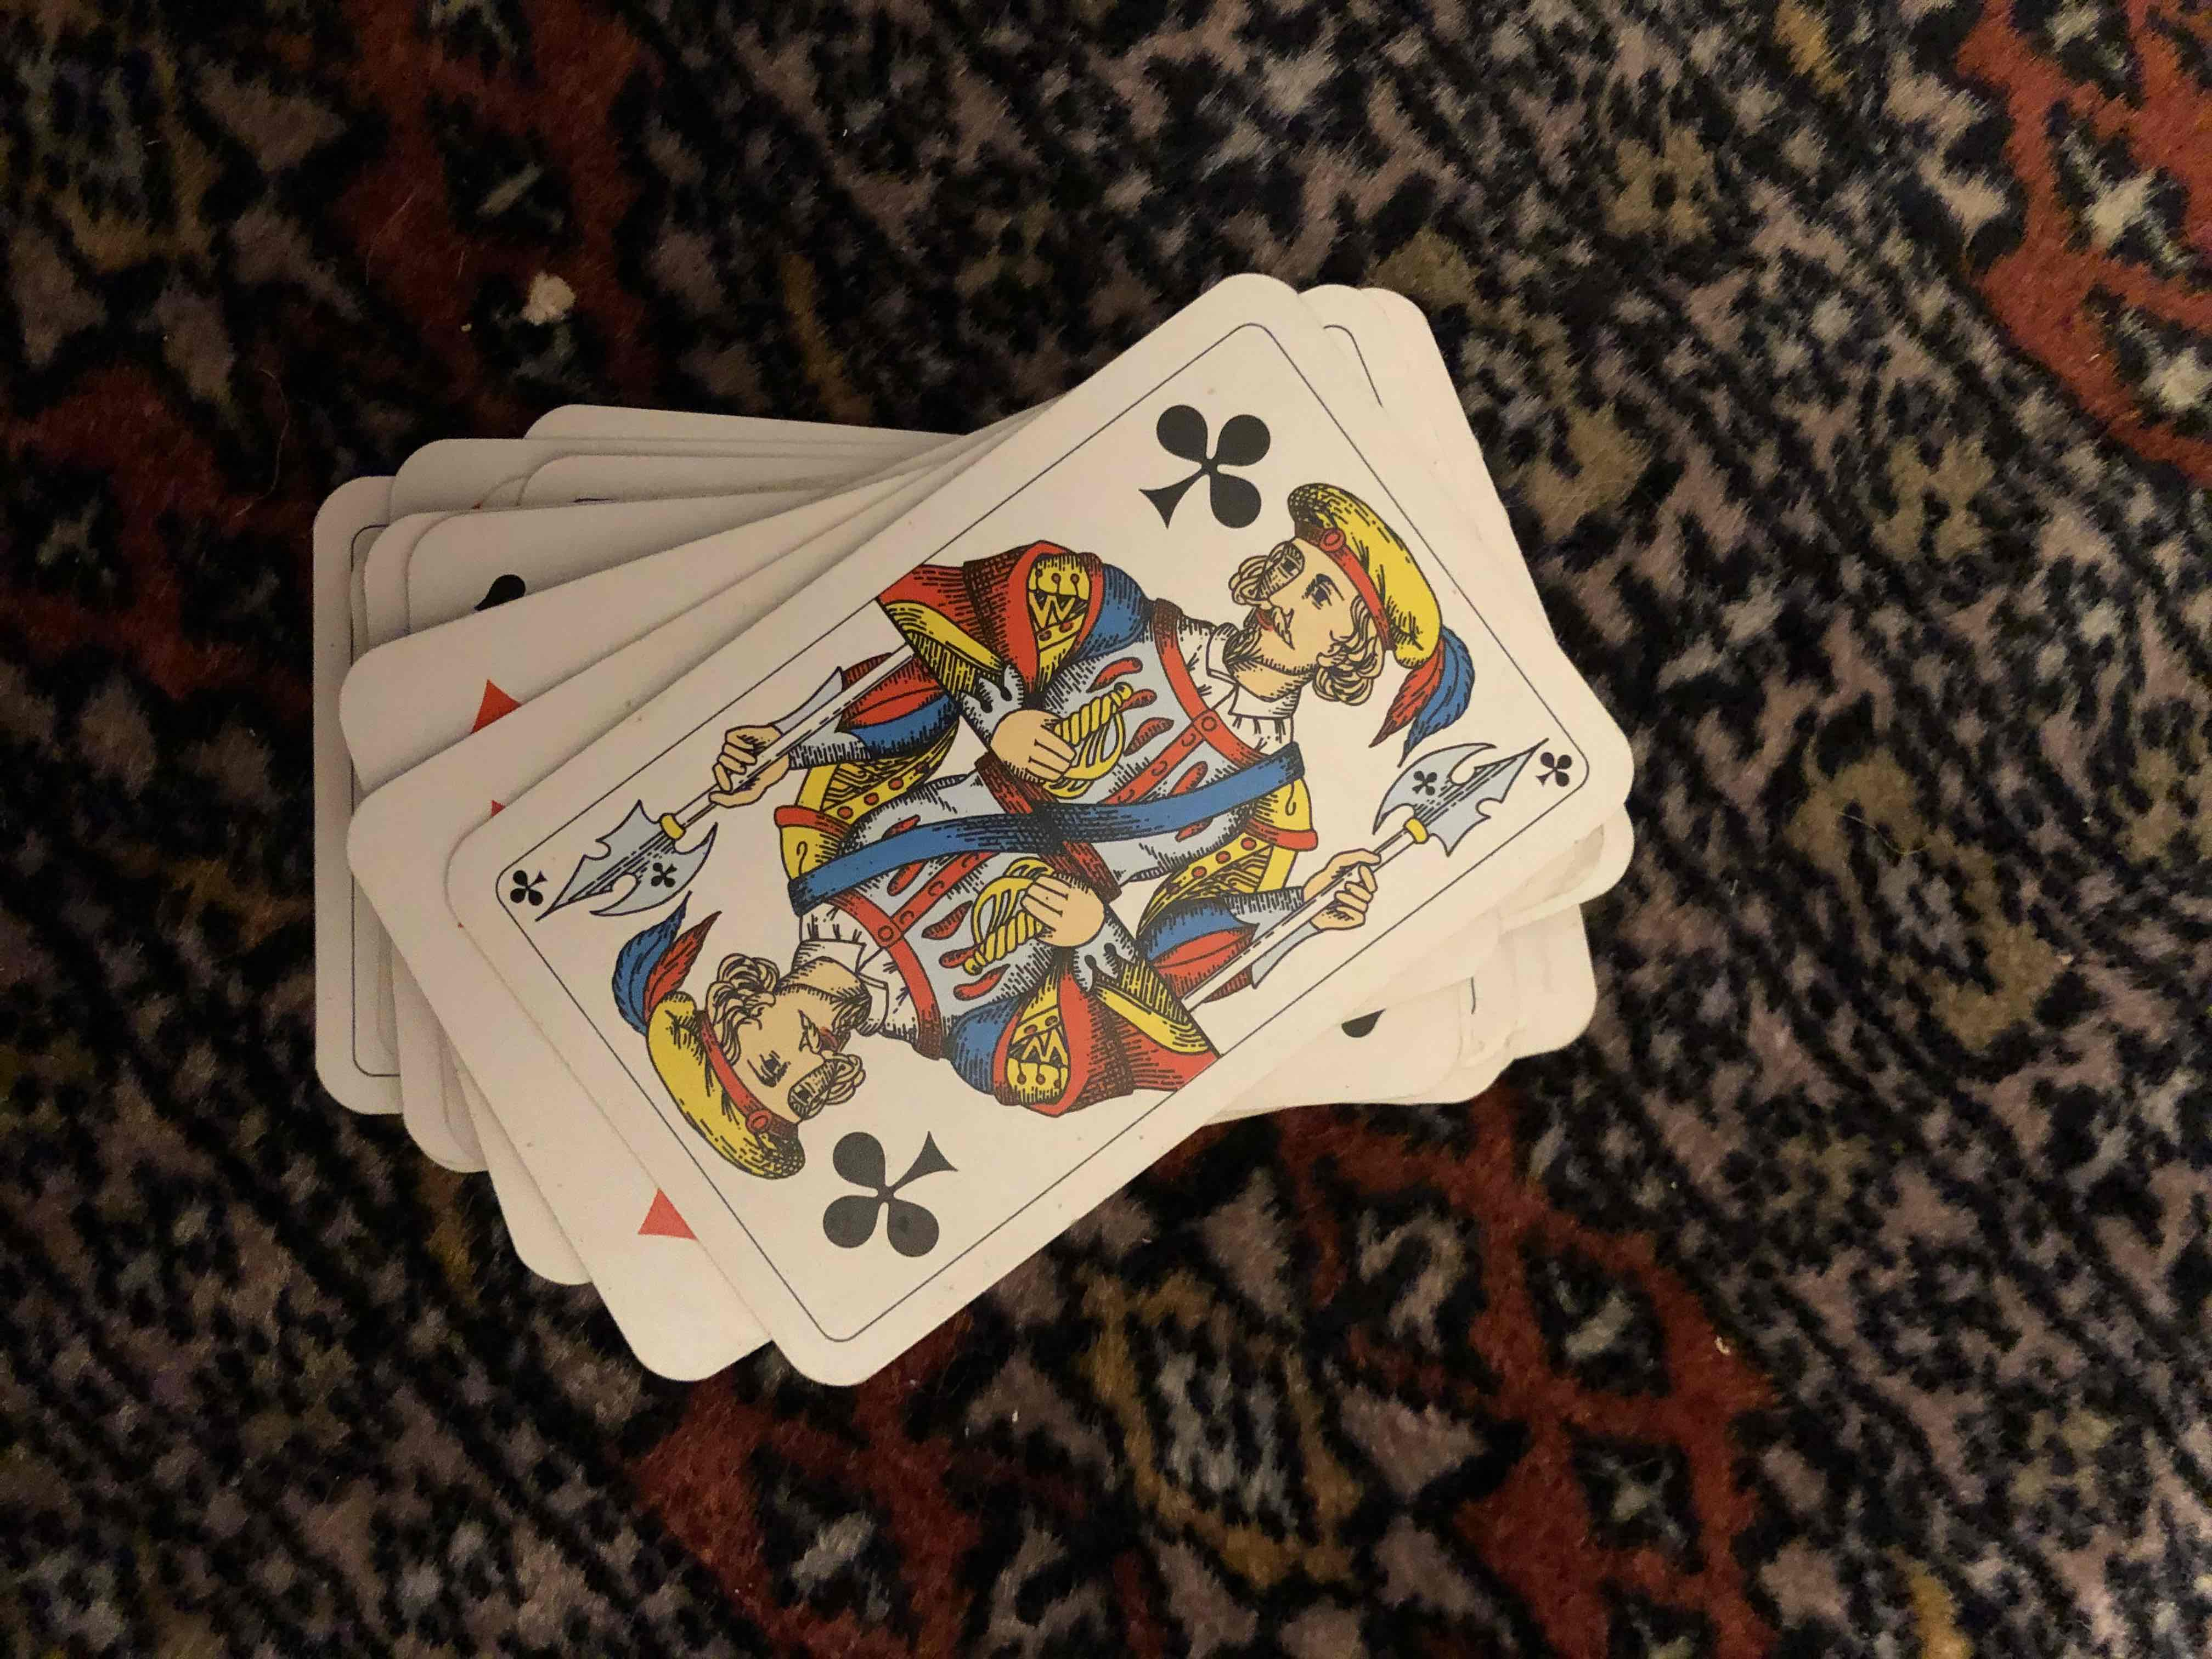clubsJack: (477, 361, 1609, 1347)
